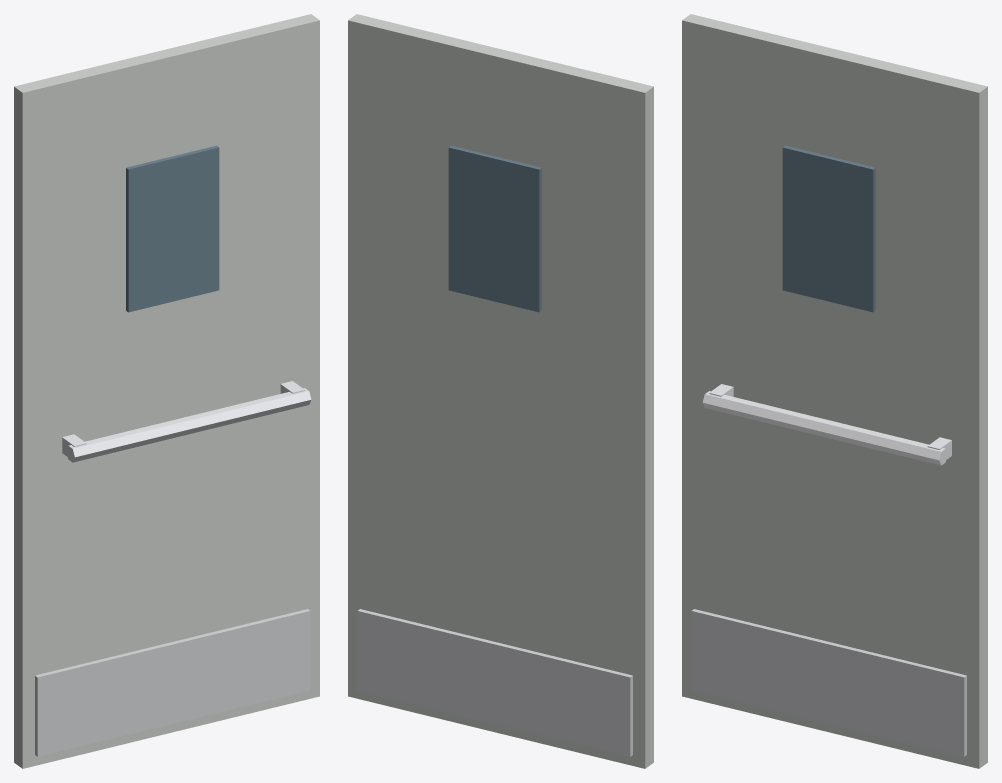
File: HJ_HojaServicio.fbx
3 renders of one model, left to right at view 1: azimuth 30°, elevation 25°; view 2: azimuth 150°, elevation 25°; view 3: azimuth 330°, elevation 25°, orthographic.
Visible parts, largest first — view 1: HJ_HojaServicio; view 2: HJ_HojaServicio; view 3: HJ_HojaServicio.
Boxes of the visible parts, x1=… form: HJ_HojaServicio: x1=14, y1=14, x2=319, y2=768; HJ_HojaServicio: x1=348, y1=14, x2=653, y2=768; HJ_HojaServicio: x1=682, y1=14, x2=987, y2=768.
Size of the model in its own units: 0.98 by 2.13 by 0.155.
